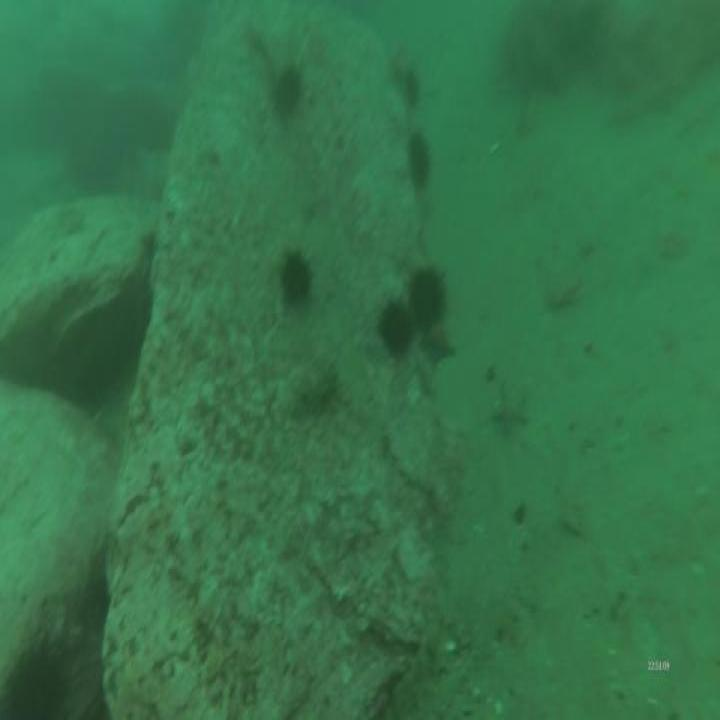echinus: (0, 638, 71, 720), (375, 288, 417, 366), (406, 262, 450, 332), (274, 242, 316, 313), (268, 59, 306, 121), (408, 121, 433, 199), (398, 62, 422, 116)
starfish: (488, 375, 532, 445), (419, 324, 457, 372)
